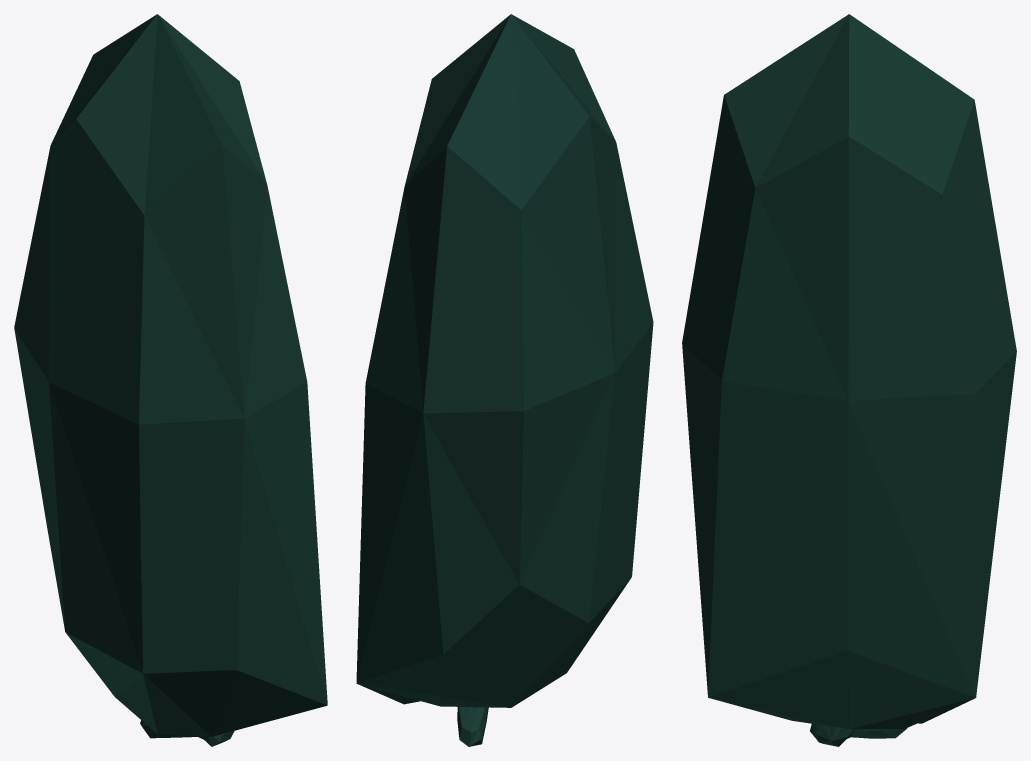
The picture shows the model from 3 angles, left to right: view 1: azimuth 30°, elevation 25°; view 2: azimuth 150°, elevation 25°; view 3: azimuth 270°, elevation 25°; orthographic projection. The views are drawn at different scales.
Visible parts, largest first — view 1: 744_Cube.2987; view 2: 744_Cube.2987; view 3: 744_Cube.2987.
Boxes of the visible parts, x1=… form: 744_Cube.2987: x1=14, y1=14, x2=327, y2=746; 744_Cube.2987: x1=356, y1=14, x2=653, y2=746; 744_Cube.2987: x1=682, y1=14, x2=1016, y2=746.
Bounding box in the file's own units: 3.97 × 12.82 × 5.44.
